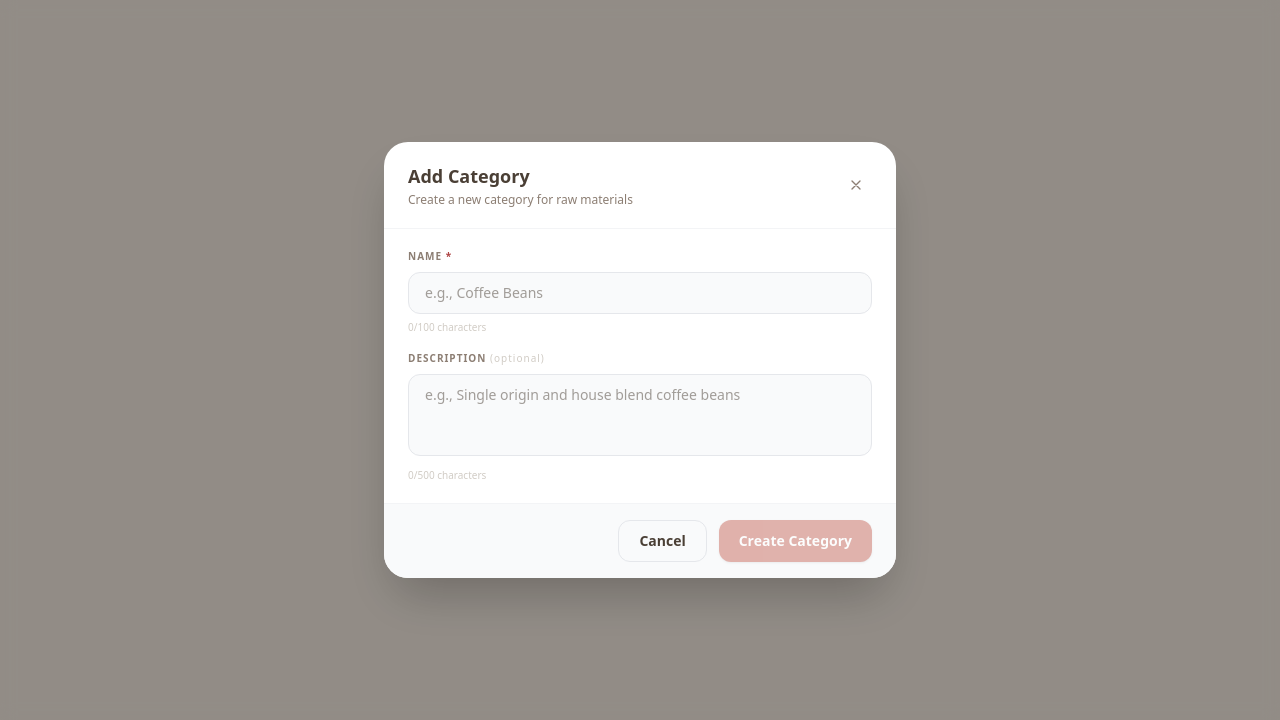
Test: CategoryFormModal.vue (Component Testing) › Boundary Value Analysis (BVA) › [BVA - name 1 char] valid
Step 1. Type "a" into the field with placeholder "e.g., Coffee Beans" → (640, 293), box [408,272,872,314]
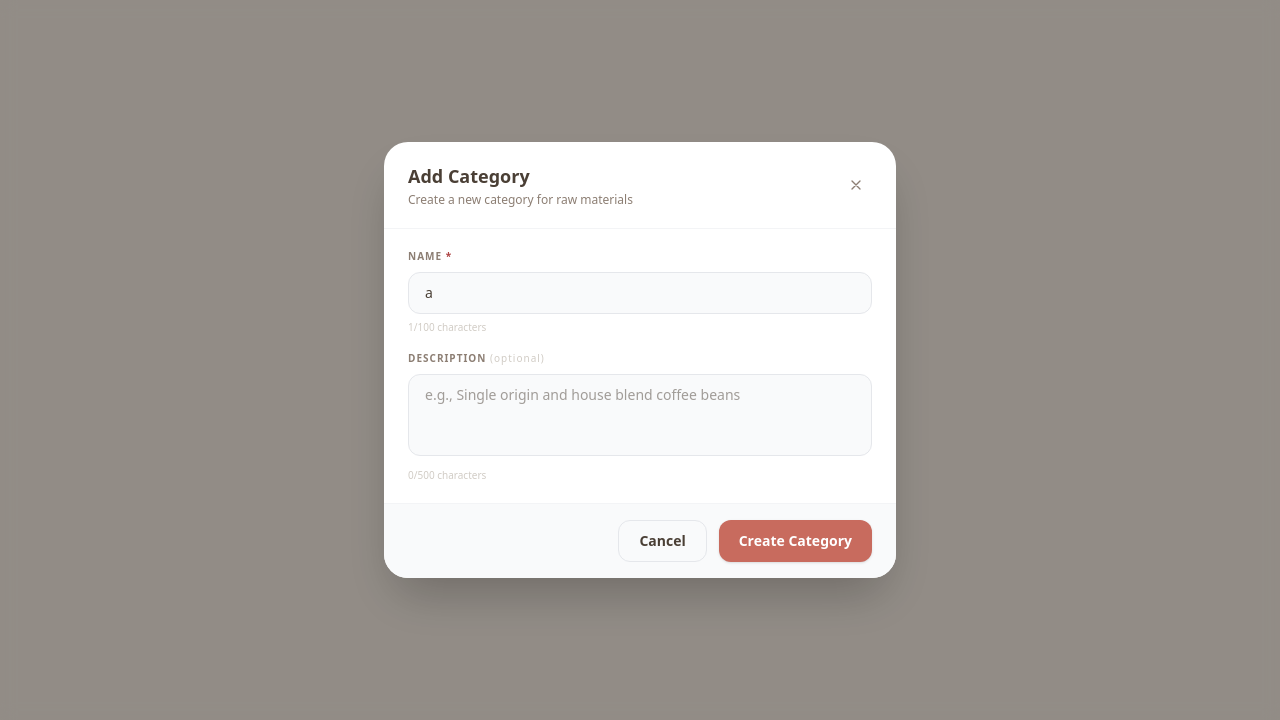
Expected: the button "Create Category" is enabled, [719,520,872,562]
